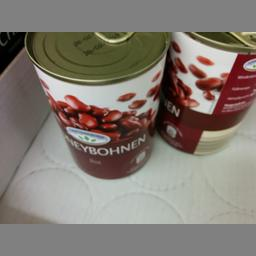beans: (22, 30, 164, 180), (166, 28, 255, 158)
